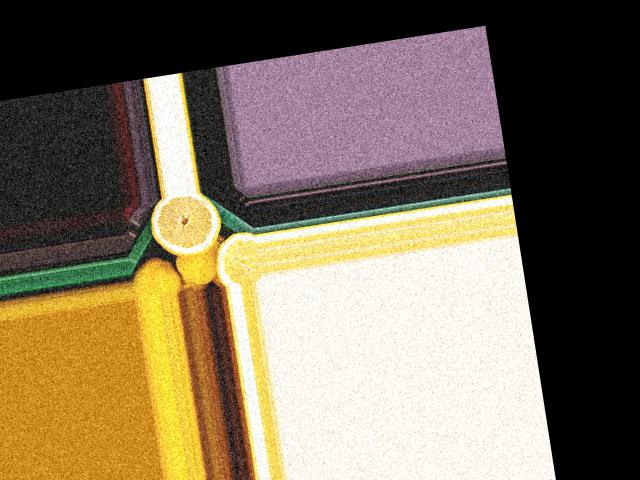lemon: (174, 239, 227, 289)
